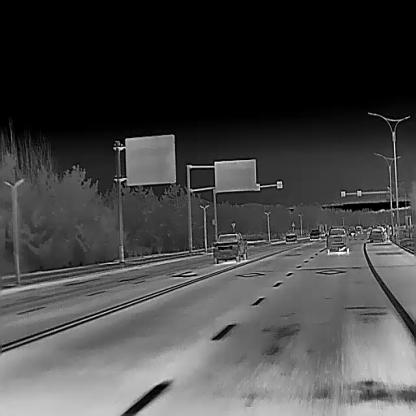car: (211, 231, 248, 262), (322, 226, 350, 253), (369, 228, 384, 240), (284, 231, 298, 243), (308, 229, 321, 240), (347, 225, 356, 237), (354, 224, 363, 233)
